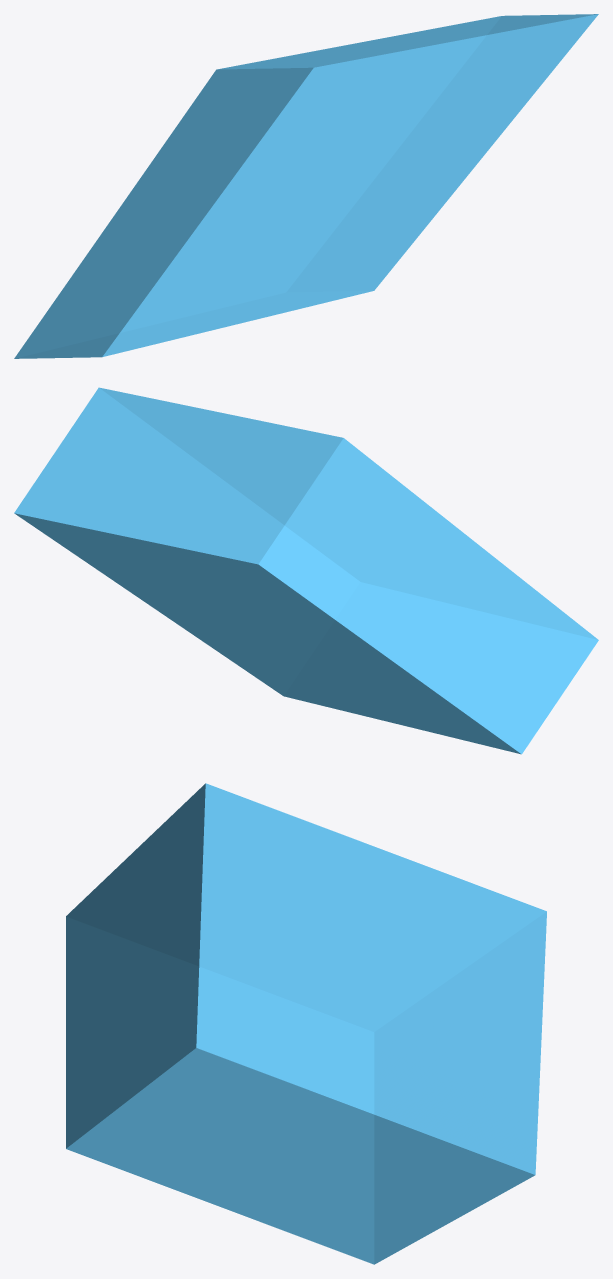
File: Event_420604493_HBrechit_38.fbx
The picture shows the model from 3 angles, top to bottom: view 1: azimuth 30°, elevation 25°; view 2: azimuth 150°, elevation 25°; view 3: azimuth 270°, elevation 25°; orthographic projection. The views are drawn at different scales.
Visible parts, largest first — view 1: Model; view 2: Model; view 3: Model.
Boxes of the visible parts, <box> form: Model: <box>14,14,598,358</box>; Model: <box>14,387,598,754</box>; Model: <box>66,783,546,1264</box>.
Bounding box in the file's own units: 1.3 × 0.6159 × 0.579.
